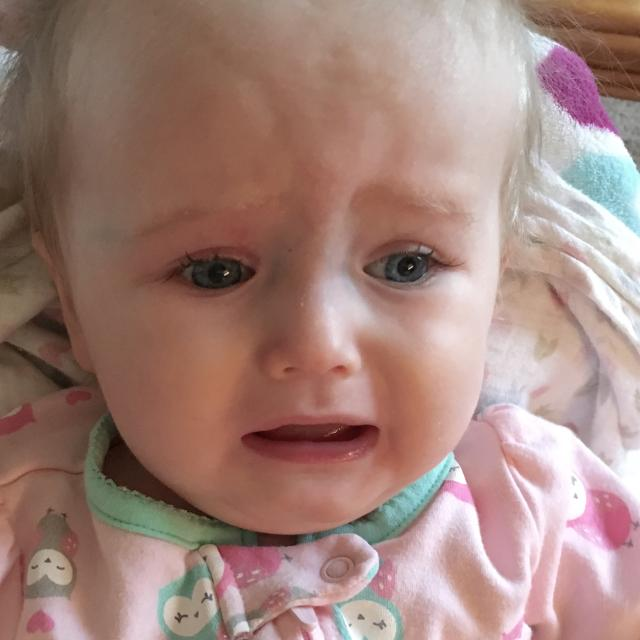Depress: (58, 7, 502, 535)
